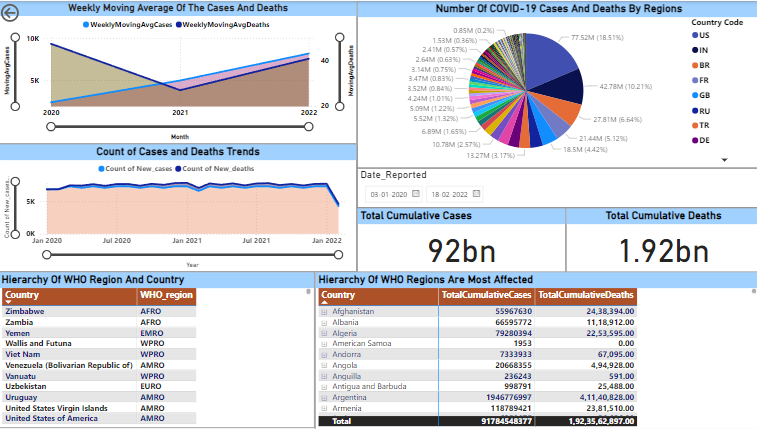

The page's visual inventory and layout, read from the dashboard file:
{"tool":"powerbi","page":{"name":"Page 2","canvas":[1280,720],"ordinal":1},"visuals":[{"type":"areaChart","title":"Weekly Moving Average Of The Cases And Deaths","fields":{"Category":["WHO-COVID-19--GLOBAL-DATA.Date_reported.Variation.Date Hierarchy.Year","WHO-COVID-19--GLOBAL-DATA.Date_reported.Variation.Date Hierarchy.Month"],"Y":["WHO-COVID-19--GLOBAL-DATA.WeeklyMovingAvgCases"],"Y2":["WHO-COVID-19--GLOBAL-DATA.WeeklyMovingAvgDeaths"]},"box":[0,0,603,240.2],"z":0},{"type":"card","title":"Total Cumulative Cases","fields":{"Values":["WHO-COVID-19--GLOBAL-DATA.TotalCumulativeCases"]},"box":[603,347.7,351.1,107.5],"z":1000},{"type":"card","title":"Total Cumulative Deaths","fields":{"Values":["WHO-COVID-19--GLOBAL-DATA.TotalCumulativeDeaths"]},"box":[954.1,347.7,325.9,107.5],"z":2000},{"type":"tableEx","title":"Hierarchy Of WHO Region And Country","fields":{"Values":["WHO-COVID-19--GLOBAL-DATA.Country","WHO-COVID-19--GLOBAL-DATA.WHO_region Hierarchy.WHO_region"]},"box":[0,455.2,532.5,262],"z":3000},{"type":"pivotTable","title":"Hierarchy Of WHO Regions Are Most Affected","fields":{"Rows":["WHO-COVID-19--GLOBAL-DATA.Country","WHO-COVID-19--GLOBAL-DATA.WHO_region Hierarchy.WHO_region"],"Values":["WHO-COVID-19--GLOBAL-DATA.TotalCumulativeCases","WHO-COVID-19--GLOBAL-DATA.TotalCumulativeDeaths"]},"box":[532.5,455.2,747.5,265.4],"z":4000},{"type":"actionButton","box":[0,0,100,40],"z":5000},{"type":"pieChart","title":"Number Of COVID-19 Cases And Deaths By Regions","fields":{"Category":["WHO-COVID-19--GLOBAL-DATA.Country_code"],"Y":["Max(WHO-COVID-19--GLOBAL-DATA.Cumulative_cases)","CountNonNull(WHO-COVID-19--GLOBAL-DATA.Date_reported)","Avg(WHO-COVID-19--GLOBAL-DATA.New_deaths)"]},"box":[603,0,677,280.5],"z":6000},{"type":"slicer","title":"Date_Reported","fields":{"Values":["WHO-COVID-19--GLOBAL-DATA.Date_reported"]},"box":[603,280.5,677,67.2],"z":6001},{"type":"stackedAreaChart","title":"Count of Cases and Deaths Trends","fields":{"Y":["CountNonNull(WHO-COVID-19--GLOBAL-DATA.New_cases)","Count(WHO-COVID-19--GLOBAL-DATA.New_deaths)"],"Category":["WHO-COVID-19--GLOBAL-DATA.Date_reported.Variation.Date Hierarchy.Year","WHO-COVID-19--GLOBAL-DATA.Date_reported.Variation.Date Hierarchy.Month"]},"box":[0,240.2,603,215],"z":6002}]}

Visuals, with their boxes in screenshot pixels (x1, y1, x2, y2), scaled from the page's 1280x720 canvas onto the 757x429 screenshot:
"Weekly Moving Average Of The Cases And Deaths" areaChart: (x1=0, y1=0, x2=357, y2=143)
"Total Cumulative Cases" card: (x1=357, y1=207, x2=564, y2=271)
"Total Cumulative Deaths" card: (x1=564, y1=207, x2=756, y2=271)
"Hierarchy Of WHO Region And Country" tableEx: (x1=0, y1=271, x2=315, y2=427)
"Hierarchy Of WHO Regions Are Most Affected" pivotTable: (x1=315, y1=271, x2=756, y2=428)
actionButton: (x1=0, y1=0, x2=59, y2=24)
"Number Of COVID-19 Cases And Deaths By Regions" pieChart: (x1=357, y1=0, x2=756, y2=167)
"Date_Reported" slicer: (x1=357, y1=167, x2=756, y2=207)
"Count of Cases and Deaths Trends" stackedAreaChart: (x1=0, y1=143, x2=357, y2=271)
